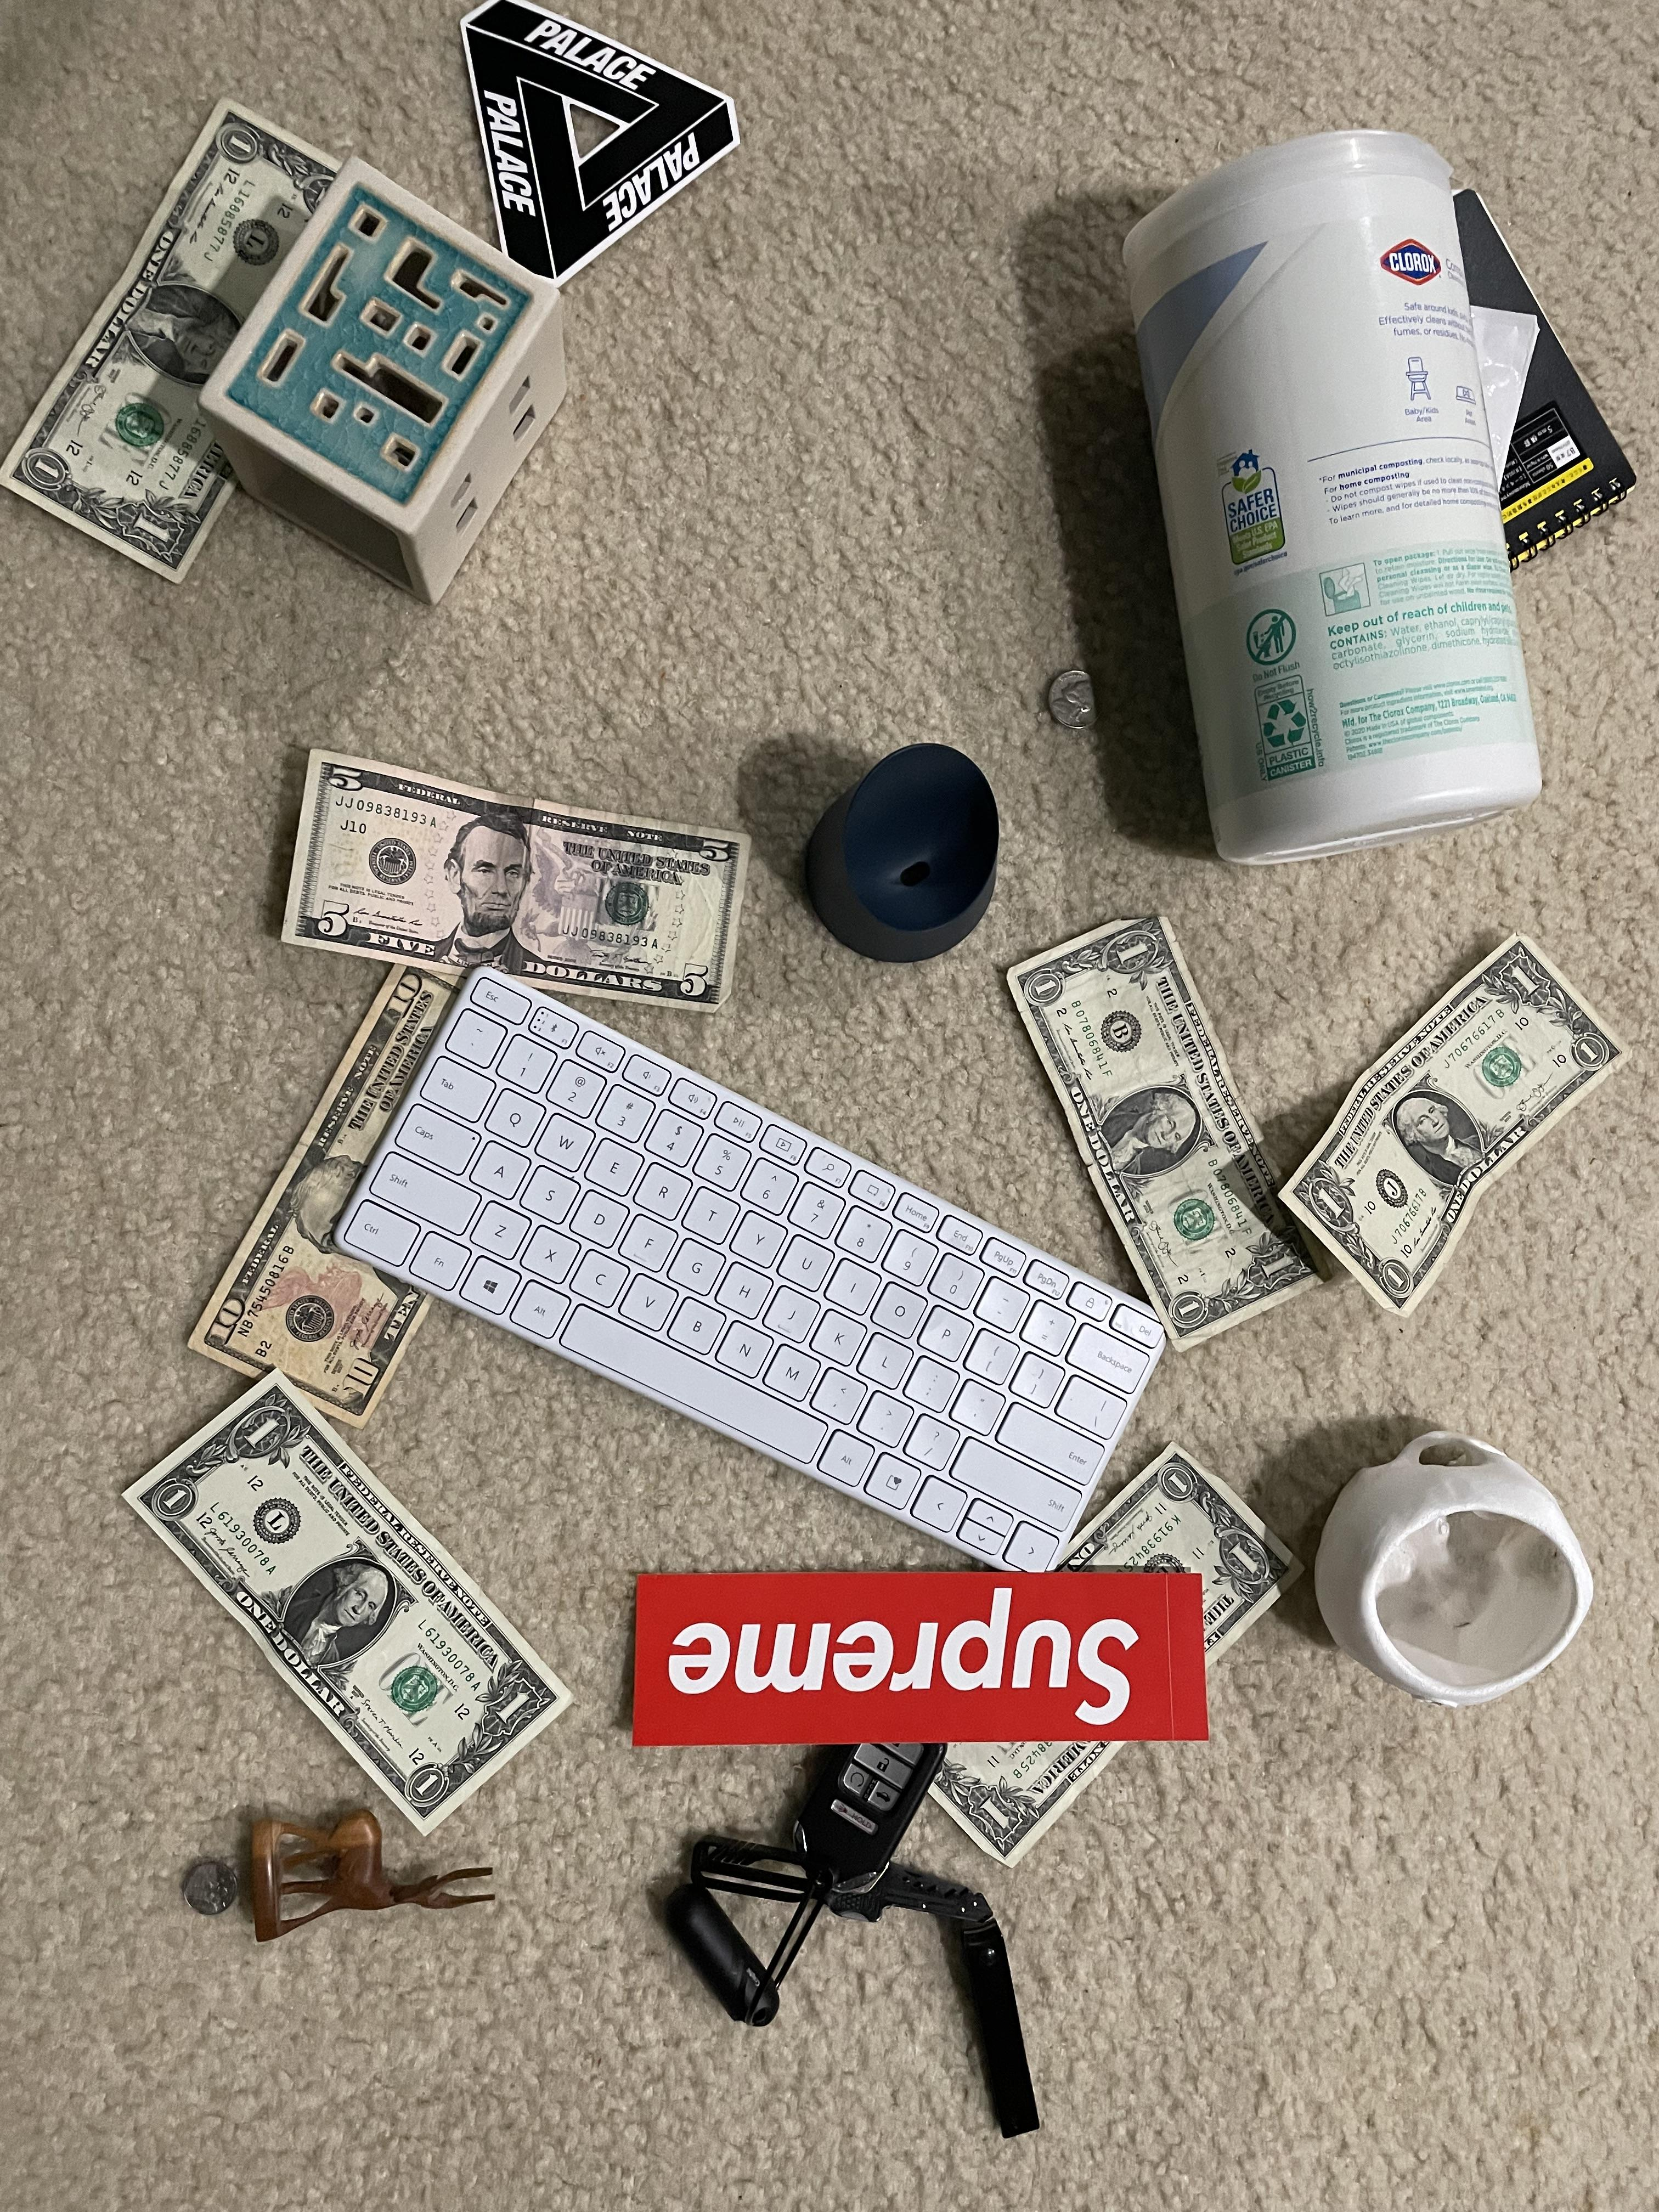Dime: (178, 1848, 249, 1932)
FiveBill: (270, 747, 755, 1017)
Nickel: (1035, 653, 1117, 738)
OneBill: (132, 1352, 579, 1860), (2, 99, 359, 596), (906, 1440, 1309, 1876), (997, 890, 1328, 1360), (1274, 928, 1635, 1320)
TenBill: (179, 958, 450, 1432)
